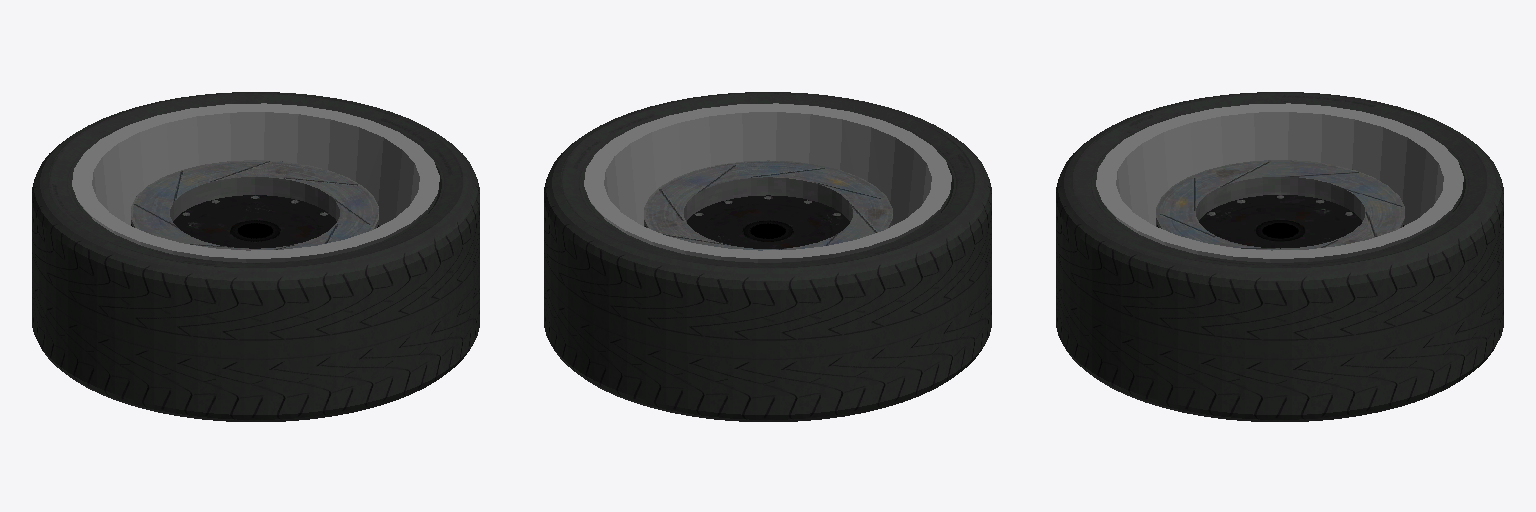
The picture shows the model from 3 angles: view 1: azimuth 30°, elevation 25°; view 2: azimuth 150°, elevation 25°; view 3: azimuth 270°, elevation 25°; orthographic projection.
Parts seen in each view (by area): view 1: wheel_rf, wheel; view 2: wheel_rf, wheel; view 3: wheel_rf, wheel.
Part boxes in pixels (bbox=[...]): wheel_rf: bbox=[32, 92, 479, 421]; wheel: bbox=[131, 160, 378, 250]; wheel_rf: bbox=[544, 92, 991, 421]; wheel: bbox=[644, 160, 892, 250]; wheel_rf: bbox=[1056, 92, 1503, 421]; wheel: bbox=[1156, 160, 1404, 250].
Size of the model in its own units: 0.7648 by 0.2834 by 0.7648.
Materials: 4 (2 with a texture image).